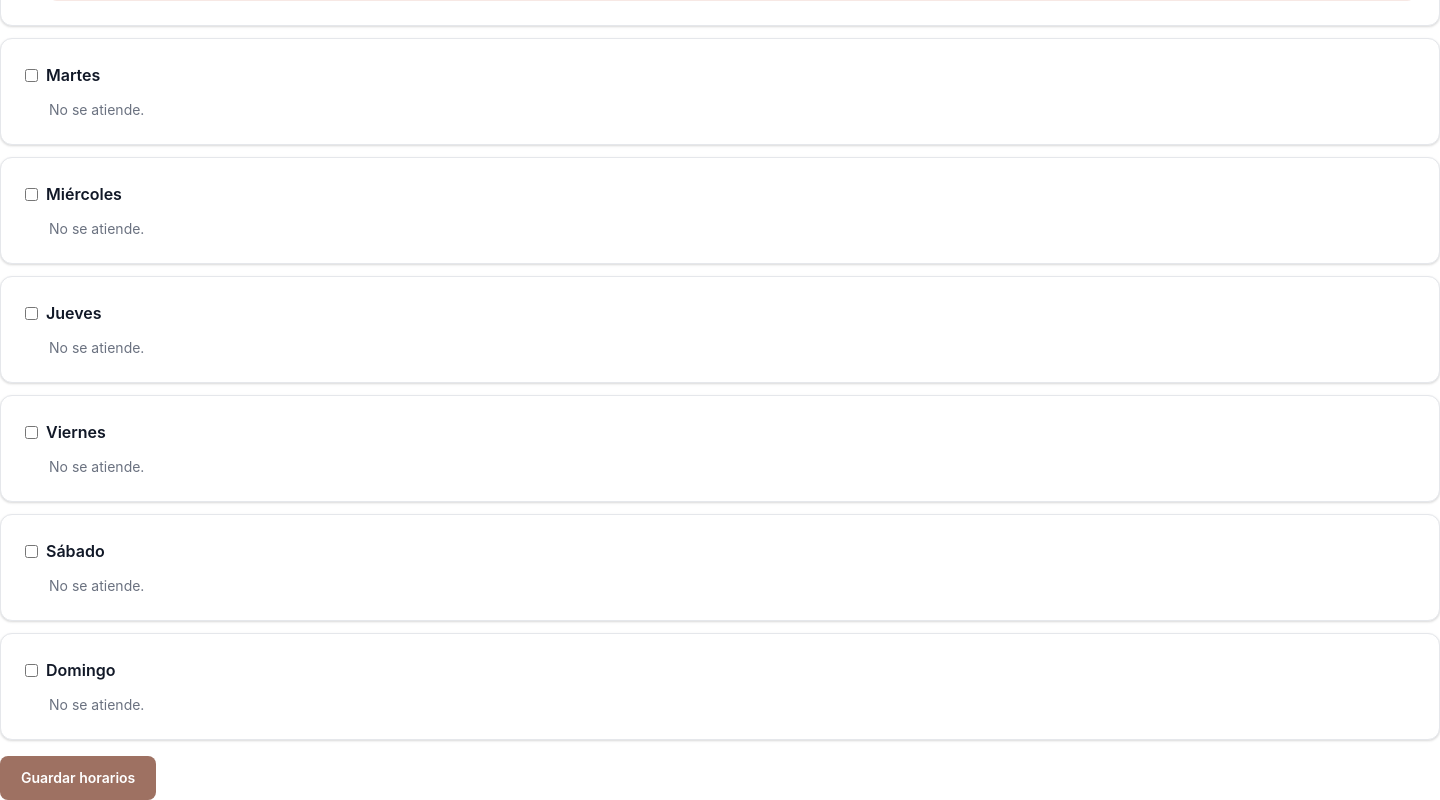
Test case: ScheduleEditor › opens a dialog for collisions and clears them by cancelling
This screenshot has width=1440, height=800.
(page scrolled)
Click the button "Guardar horarios".
click(78, 778)  # box [0,756,156,799]
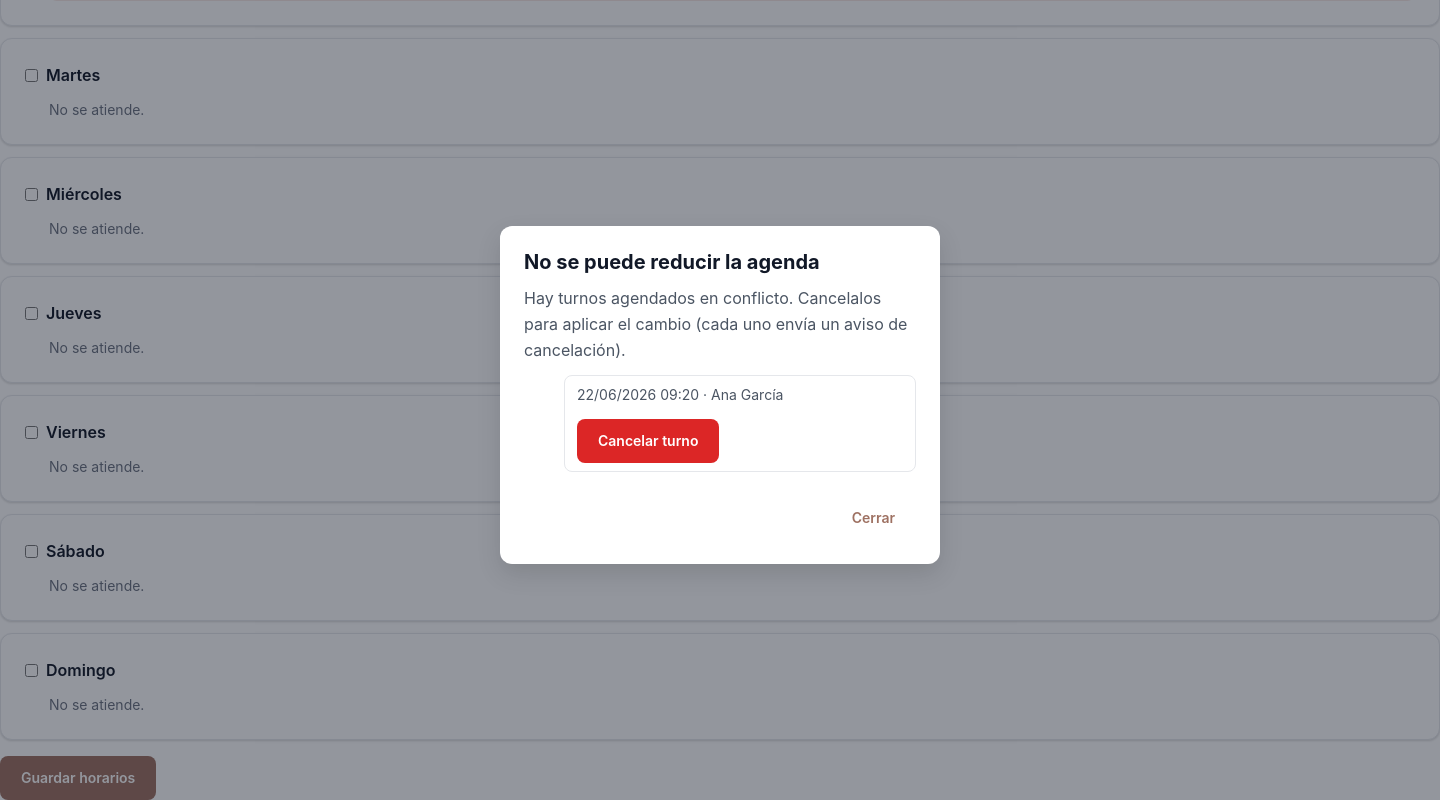
Expected: the dialog "No se puede reducir la agenda" shows "Ana García", [711,386,783,403]
Expected: the button "Cancelar turno" is enabled
Click the button "Cancelar turno".
click(648, 441)  # box [577,419,720,463]
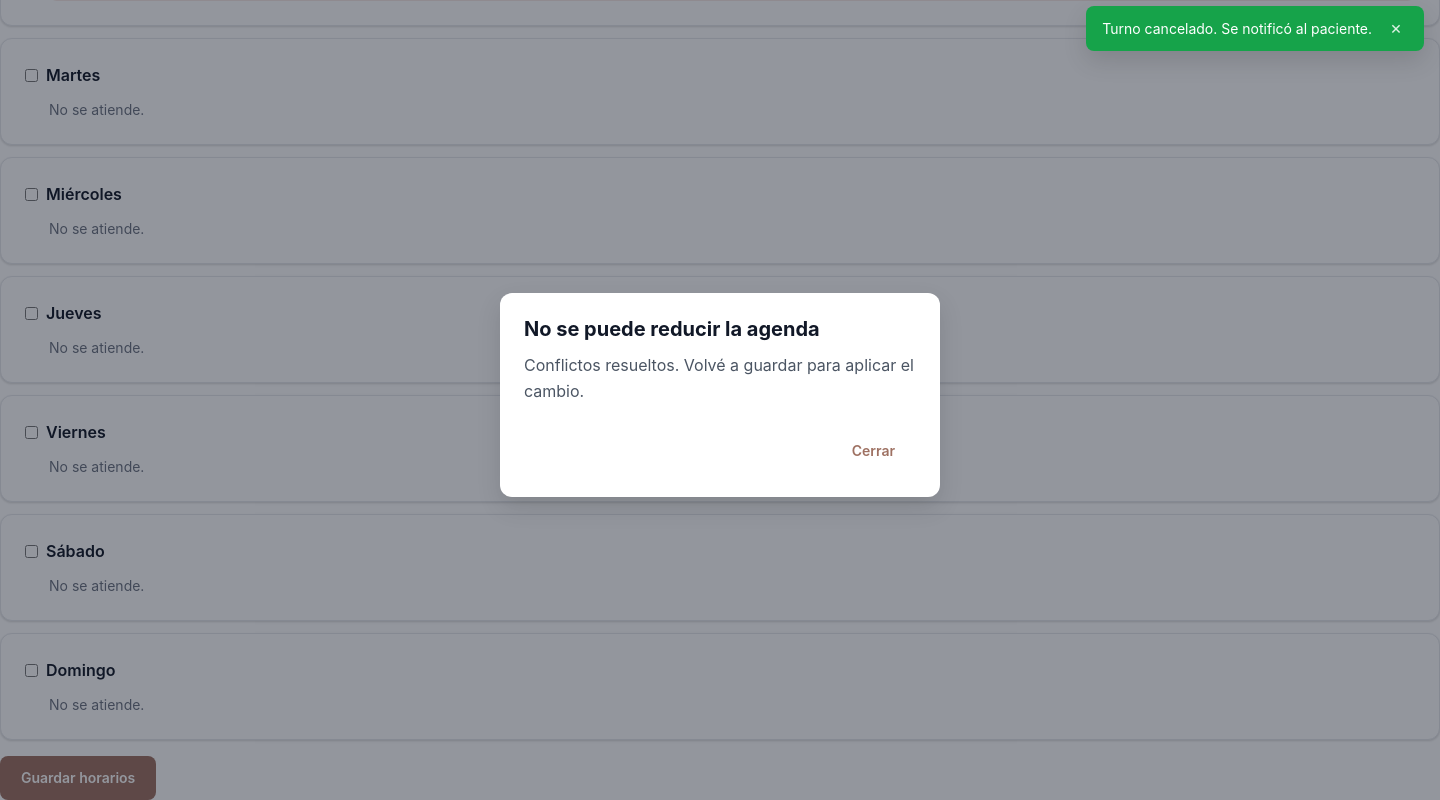
Expected: the text "Conflictos resueltos" is shown, [524,355,914,401]
